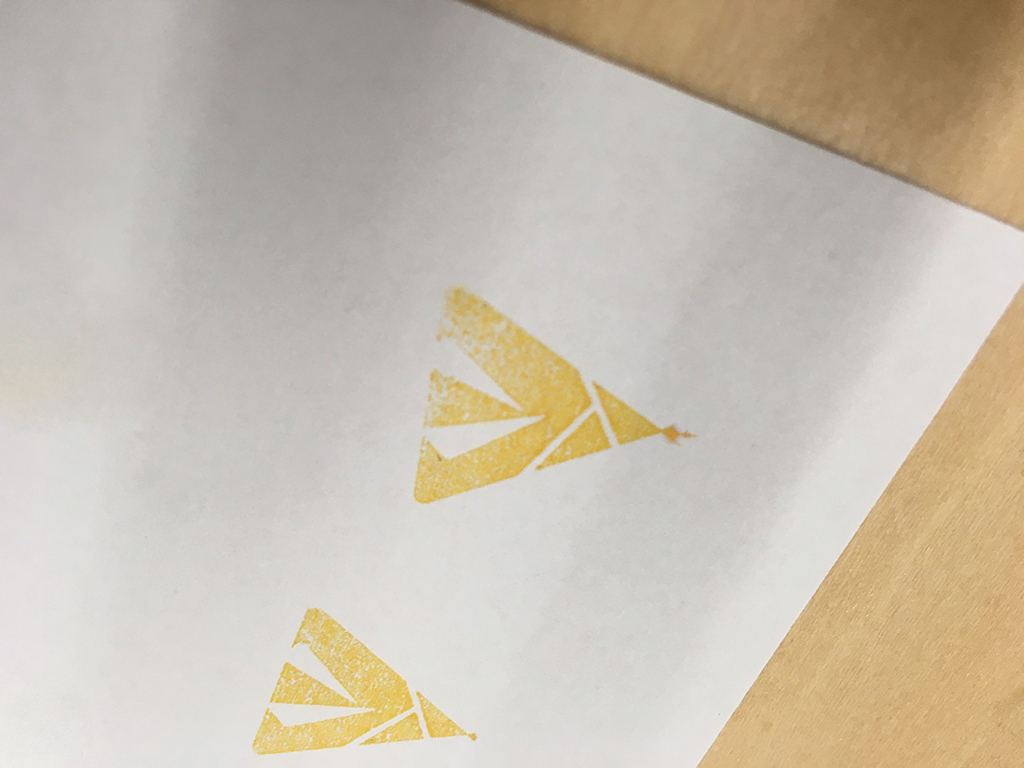tent: (403, 272, 706, 521), (245, 596, 490, 768)
